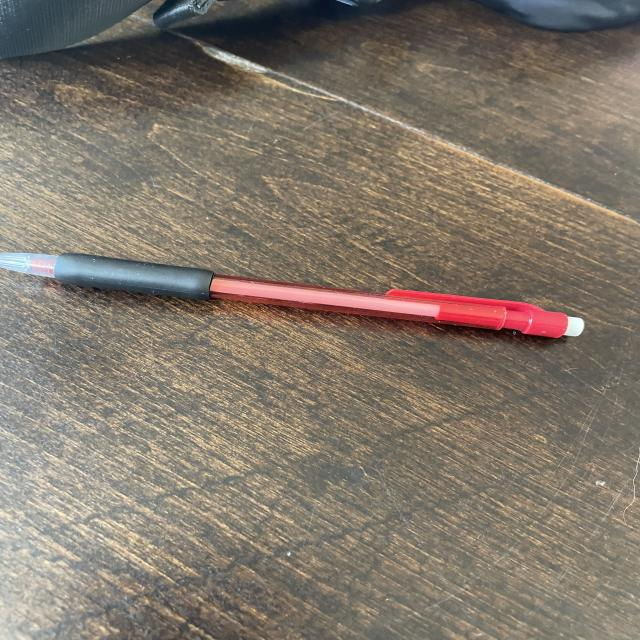mechanical-pencils: (2, 239, 591, 347)
